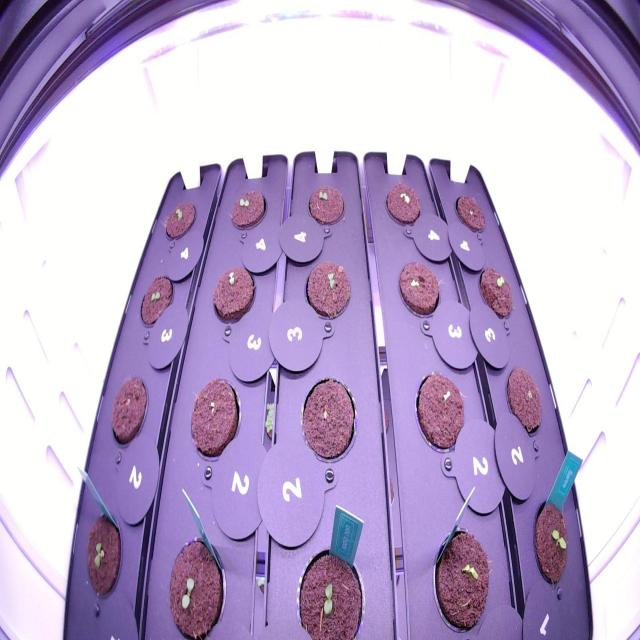germination: (290, 532, 370, 640), (427, 518, 497, 640), (162, 523, 234, 639), (409, 360, 471, 460), (77, 500, 128, 608), (524, 492, 574, 592), (299, 254, 356, 329), (207, 257, 260, 330), (396, 249, 444, 326), (469, 256, 517, 326), (134, 266, 177, 334), (225, 179, 270, 236), (303, 178, 348, 235), (381, 176, 425, 231), (159, 194, 201, 246)
pod: (293, 370, 362, 470), (180, 367, 244, 468), (499, 356, 550, 442), (105, 368, 153, 452), (449, 187, 491, 242)
